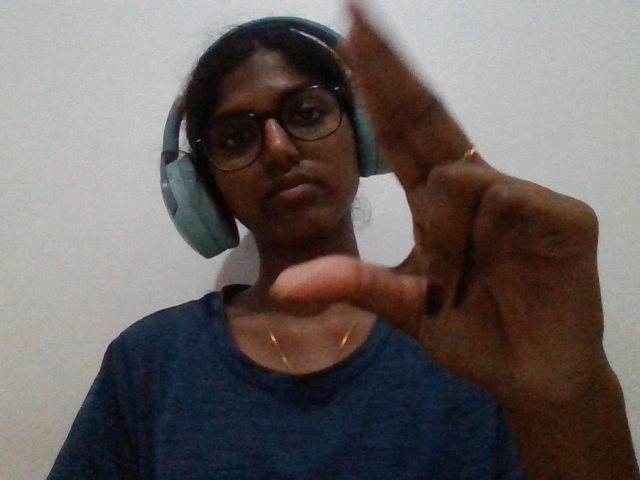No: (222, 13, 633, 437)
